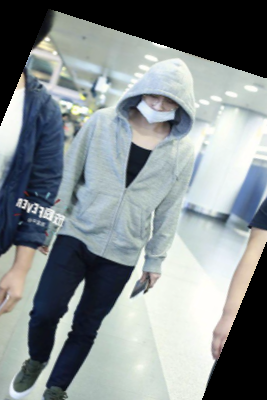mask_weared_incorrect: (126, 57, 203, 144)
